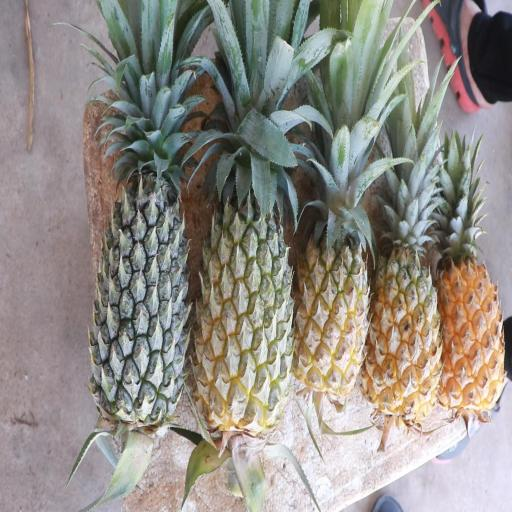------------------------------: (199, 152, 293, 431)
Pineapple - v8 v1: (367, 206, 441, 418), (297, 177, 369, 387), (438, 212, 504, 410)
